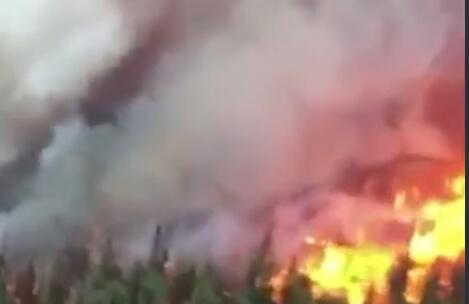fire: (293, 177, 462, 304)
smoke: (1, 0, 463, 255)
